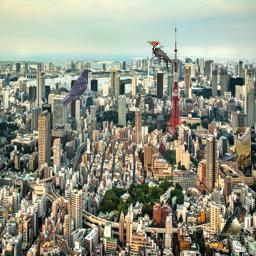Crow: (61, 68, 92, 108)
Sparrow: (234, 127, 251, 167)
Swallow: (209, 206, 249, 242)
Woodpecker: (147, 41, 172, 73)
